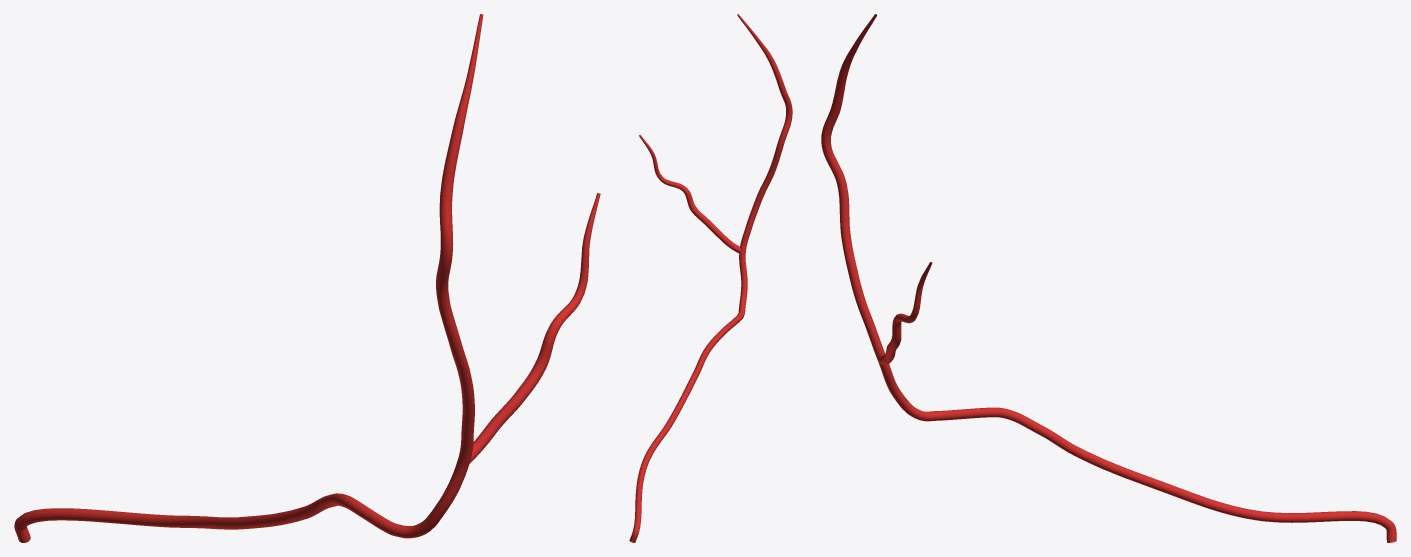
The model's file is circulatorio-supra-orbital-artery-l.glb.
3 views of the same model, side by side, from view 1: azimuth 30°, elevation 25°; view 2: azimuth 150°, elevation 25°; view 3: azimuth 270°, elevation 25° (orthographic). The views are drawn at different scales.
Visible parts, largest first — view 1: Supra-orbital artery.l; view 2: Supra-orbital artery.l; view 3: Supra-orbital artery.l.
Part boxes in pixels (<box>): Supra-orbital artery.l: <box>14,14,600,542</box>; Supra-orbital artery.l: <box>629,14,792,542</box>; Supra-orbital artery.l: <box>821,14,1396,542</box>.
Size of the model in its own units: 0.019 by 0.0457 by 0.0413.
